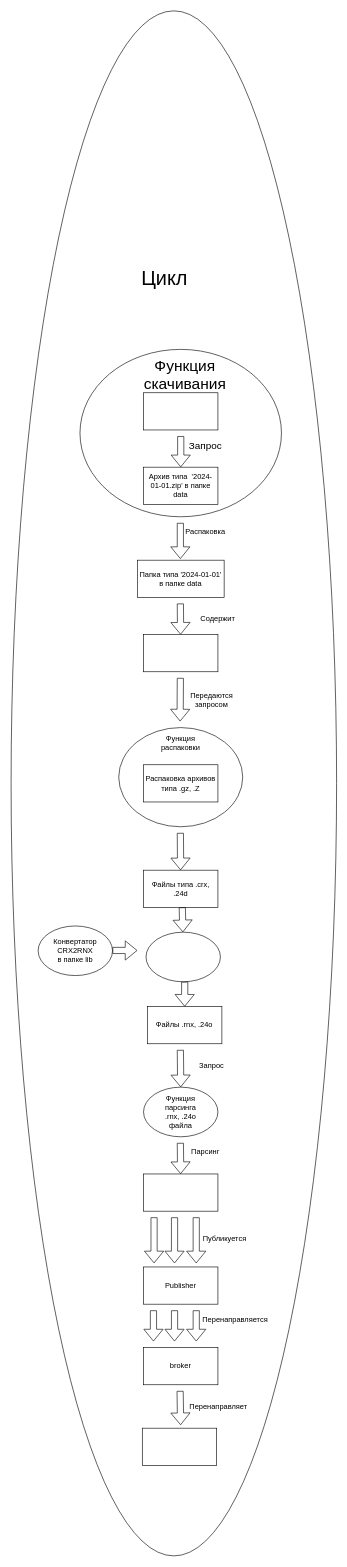
The diagram is 347 pixels wide and 1567 high, and some of its shapes have lost their labels. Each missing label, with the box of its shape:
Rinex API: (143, 392, 218, 430)
subscriber: (142, 1428, 217, 1465)
Архивы типа .gz, .Z: (143, 634, 218, 672)
Данные из каждого файла: (143, 1173, 218, 1211)
Функция конвертации в .rnx, .24o: (145, 932, 220, 982)
